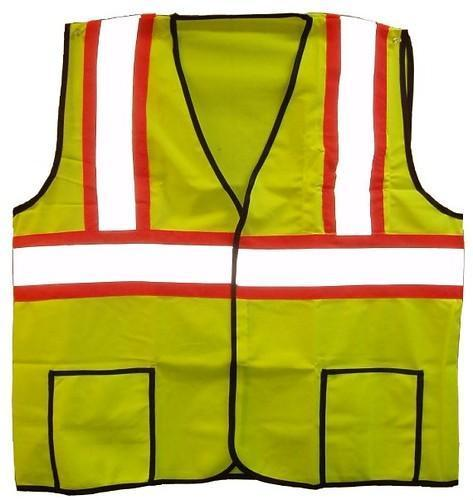vest: (12, 6, 466, 493)
